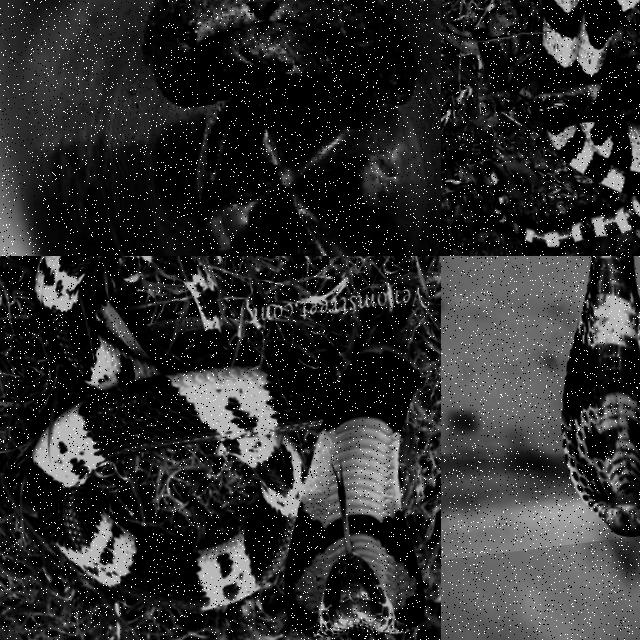Bungarus candidus: (512, 64, 639, 246)
Calloselasma rhodostoma: (145, 0, 415, 206)
Naja siamensis: (29, 256, 424, 635)
Ophiophagus hannah: (561, 256, 639, 534)
snake: (29, 256, 424, 635), (145, 0, 415, 206), (512, 64, 639, 246), (561, 256, 639, 534)
